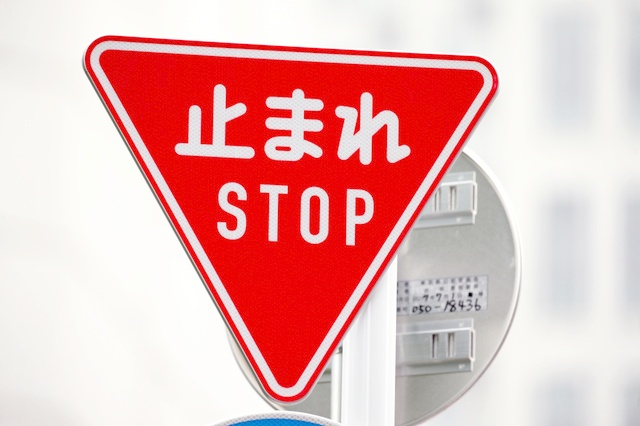Regulatory_sign_triangle: (75, 28, 509, 401)
